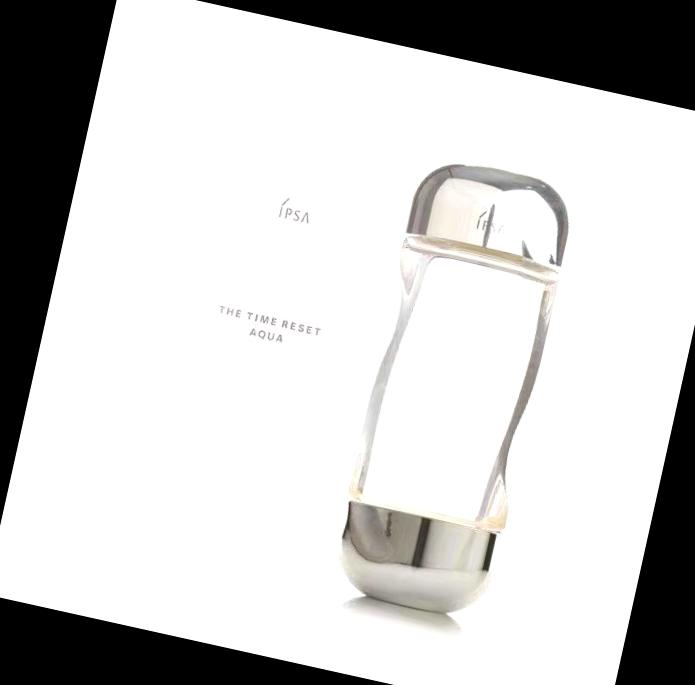cosmetic: (326, 152, 587, 628)
